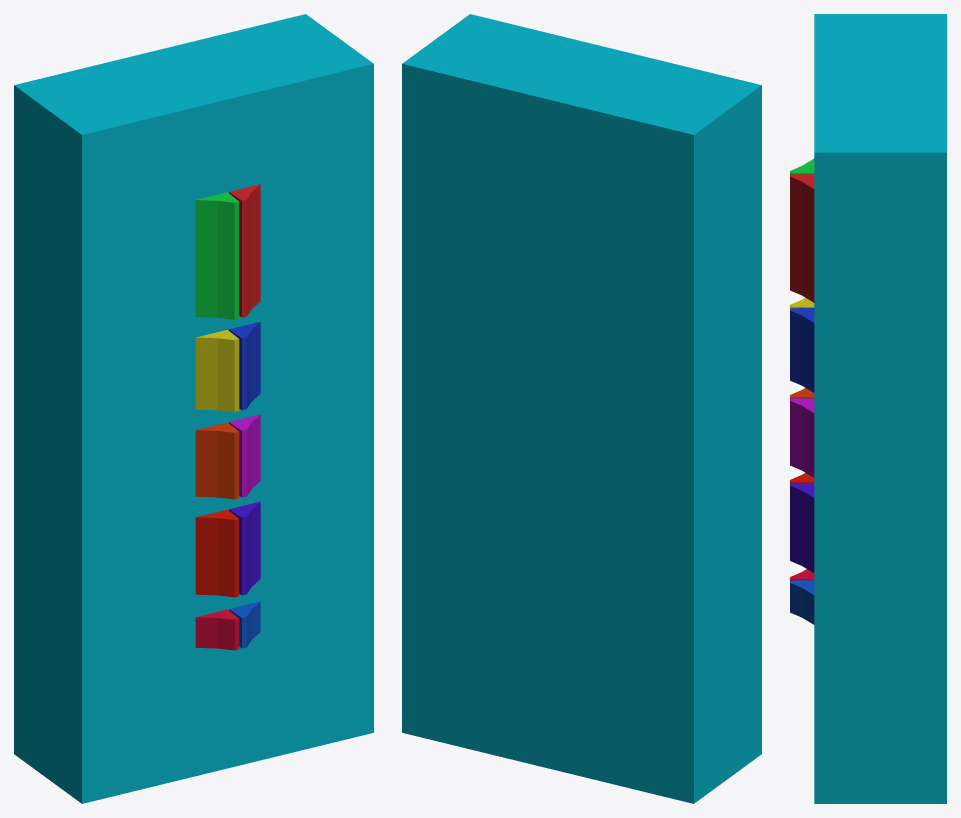
Rendered from PhantomCollision.OBJ.
3 views of the same model, side by side, from view 1: azimuth 30°, elevation 25°; view 2: azimuth 150°, elevation 25°; view 3: azimuth 270°, elevation 25° (orthographic). The views are drawn at different scales.
Visible parts, largest first — view 1: PhantomCollision_Cube.018; view 2: PhantomCollision_Cube.018; view 3: PhantomCollision_Cube.018.
Part boxes in pixels (x1,y1,x2,y2): PhantomCollision_Cube.018: (14, 14, 373, 803); PhantomCollision_Cube.018: (402, 14, 761, 803); PhantomCollision_Cube.018: (790, 14, 946, 803).
Size of the model in its own units: 0.8038 by 1.76 by 0.3842.
